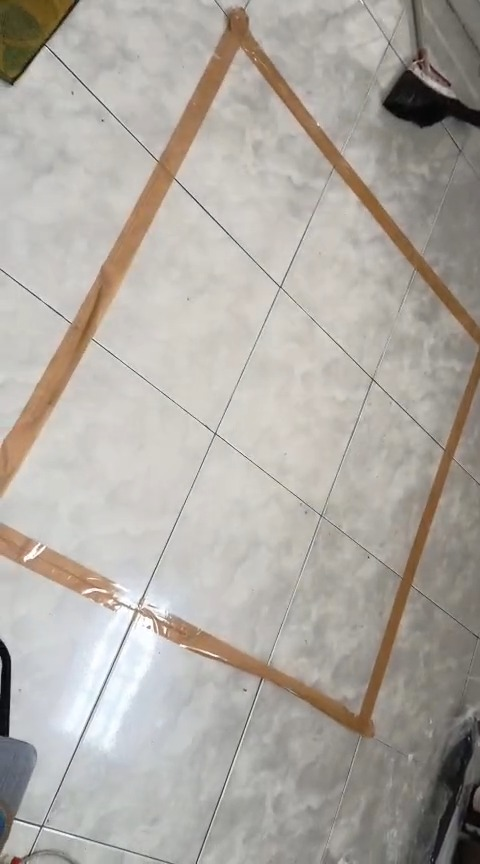floor marking: (1, 9, 479, 495), (0, 354, 479, 736)
